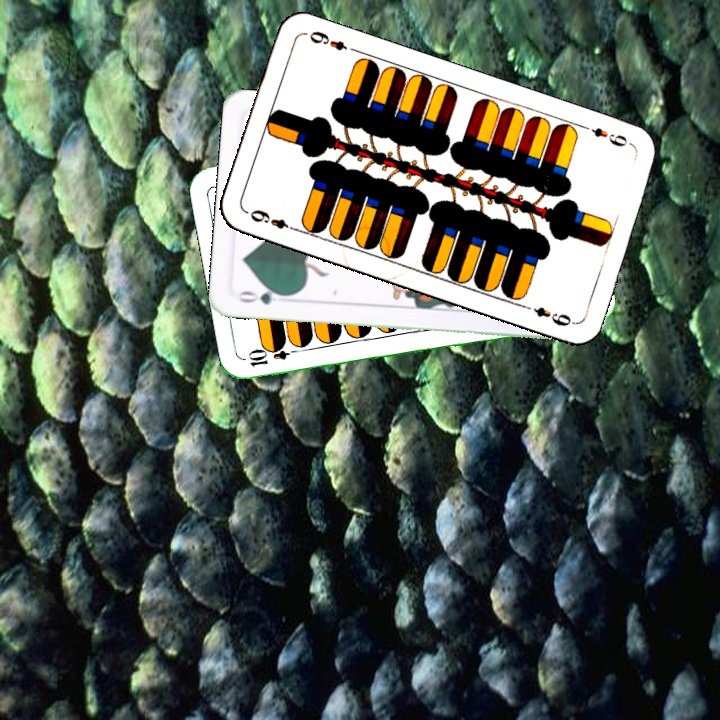E10: (244, 342, 303, 369)
E9: (243, 205, 300, 234), (578, 121, 635, 150)
GO: (235, 284, 293, 308)
